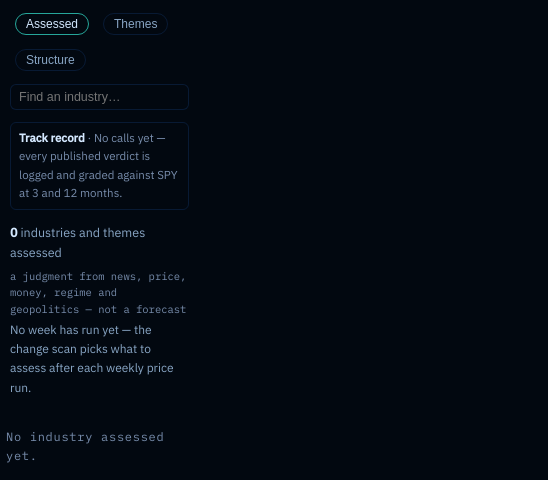
Test case: IndustryView › finds an industry by name, and says so when nothing matches
Click the tab "Structure" at (50,60), box [15,49,86,71]
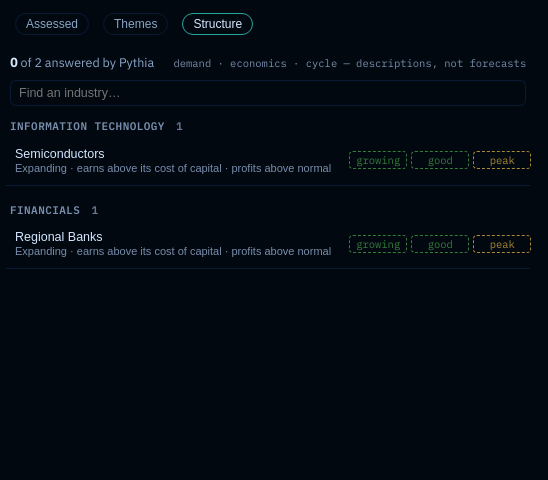
Type "bank" into the search field labelled "Find an industry" at (268,93), box [10,80,526,106]
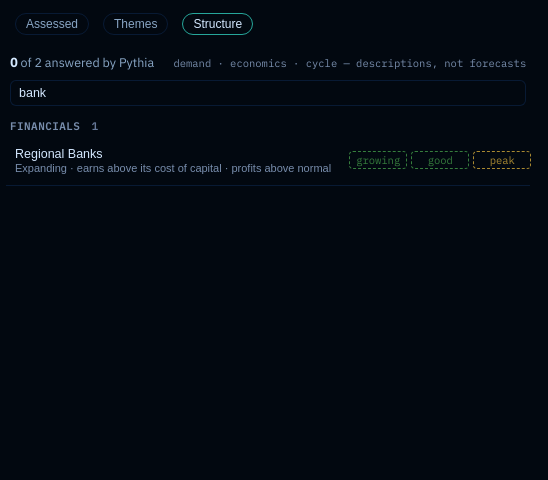
Expected: the text "Regional Banks" is shown, [15,147,103,161]
Expected: the button "Semiconductors" is gone
Replace the text in the search field named "Find an industry" with "zzz" at (268,93), box [10,80,526,106]
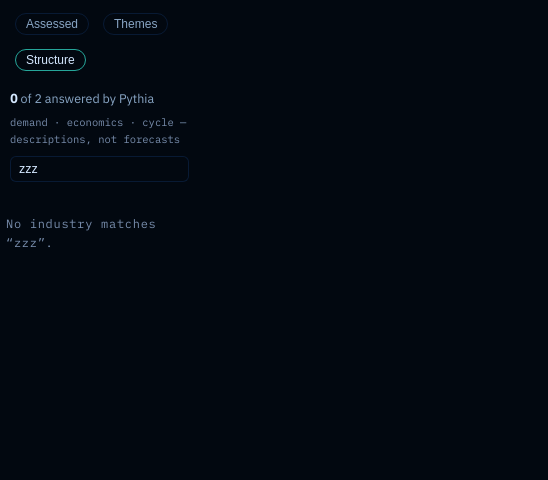
Expected: the text "No industry matches “zzz”." is shown, [6,216,156,250]
